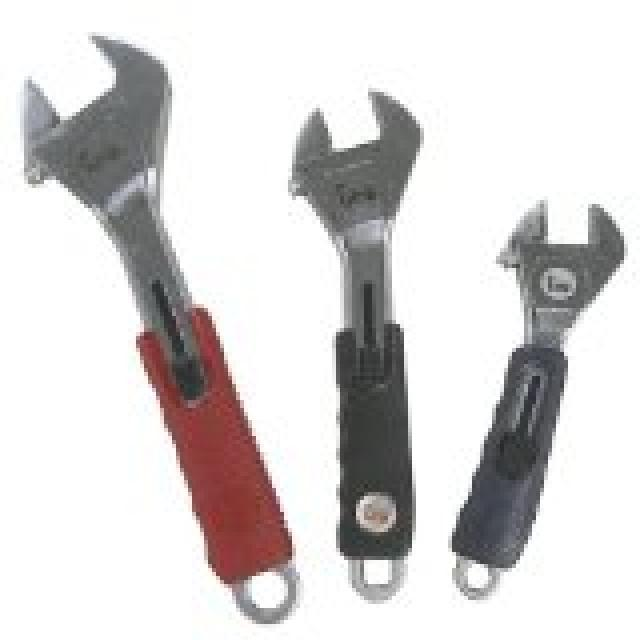wrench: (16, 32, 307, 628), (450, 193, 630, 601), (288, 81, 427, 608)
